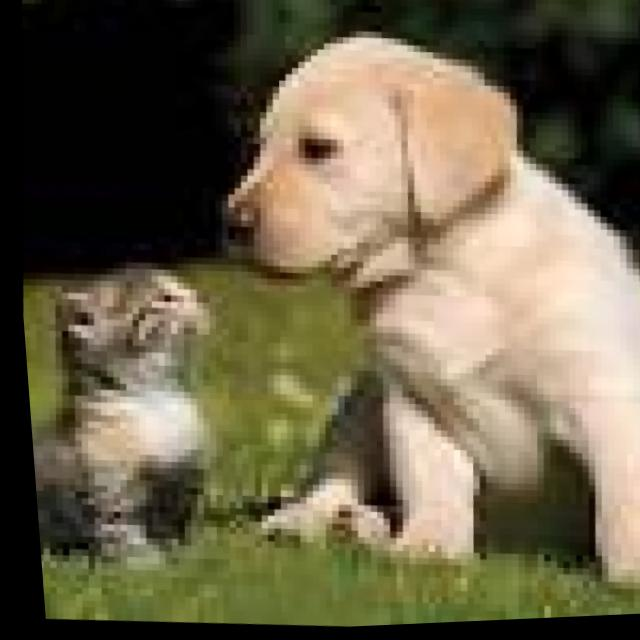Cat: (16, 258, 233, 568)
Dog: (187, 6, 640, 522)
